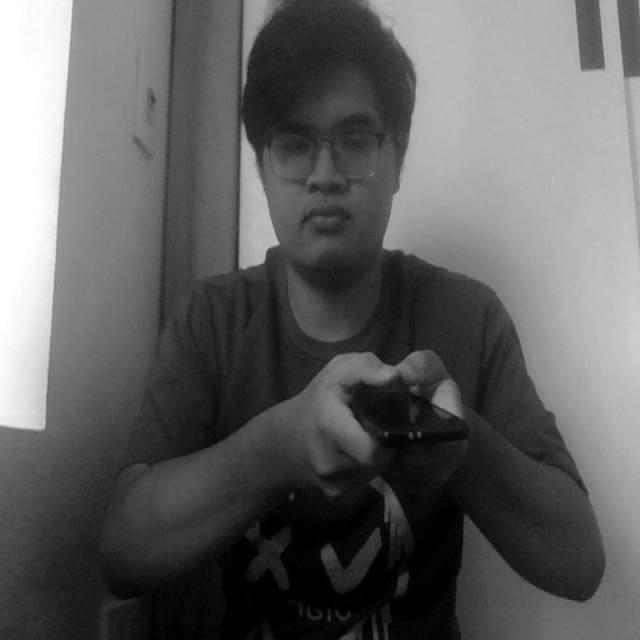phone: (336, 352, 488, 470)
